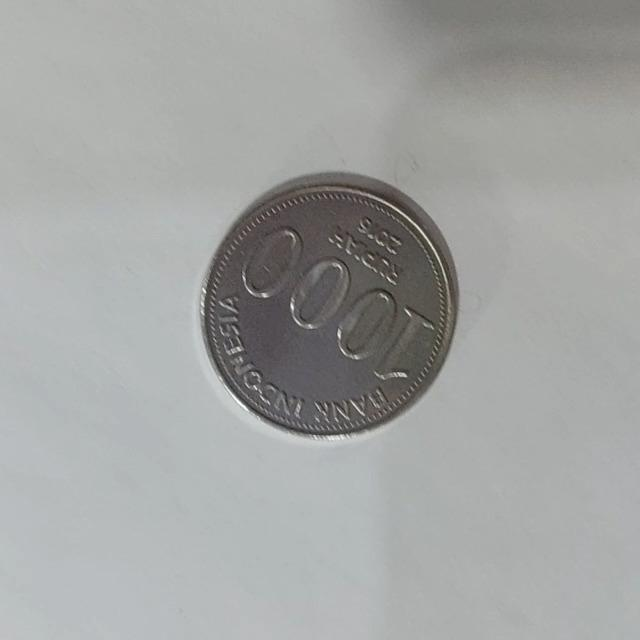Rp100: (198, 169, 460, 440)
